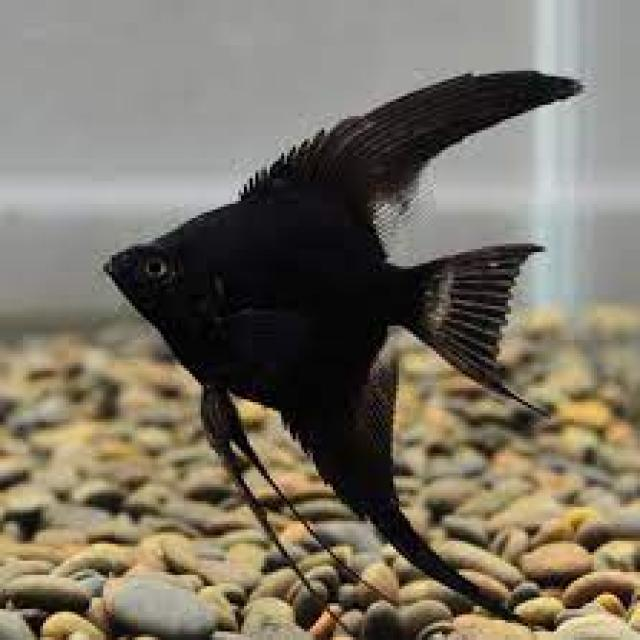AngelFish: (106, 66, 586, 626)
